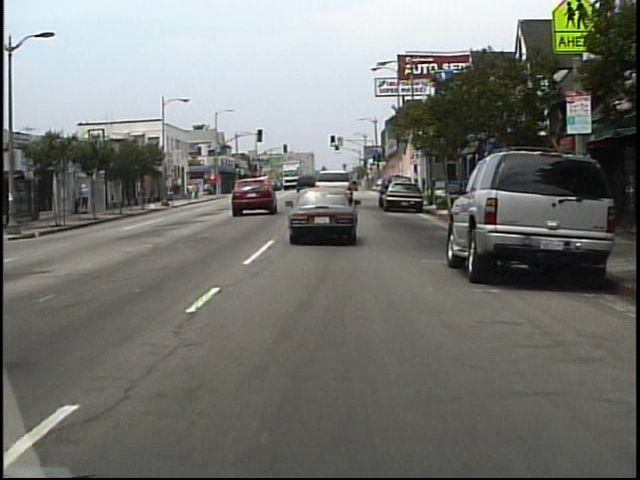person: (82, 184, 95, 214)
